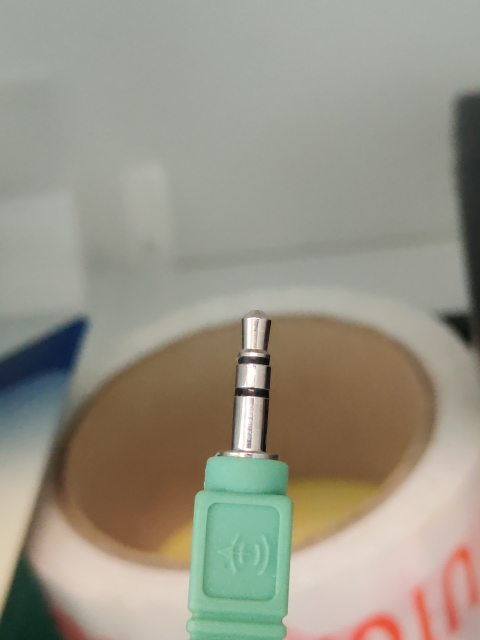3.5mm_audio: (222, 310, 278, 461)
